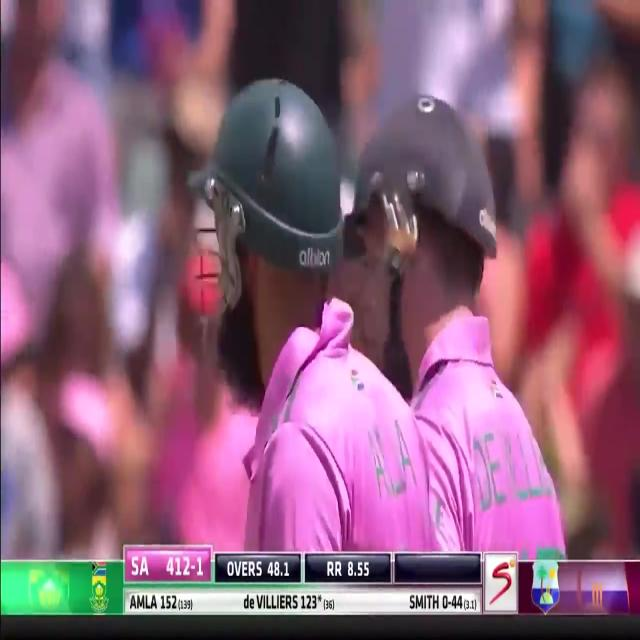Ball: (236, 74, 544, 554)
